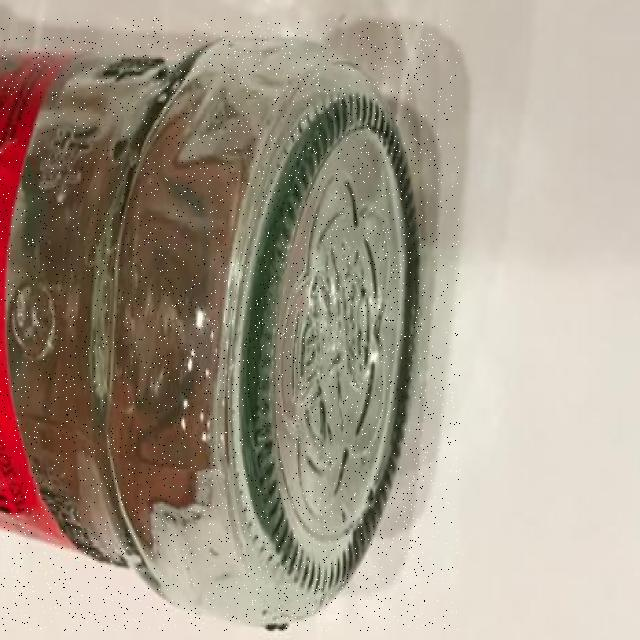glass: (0, 17, 460, 630), (0, 35, 424, 631), (0, 37, 420, 629)
